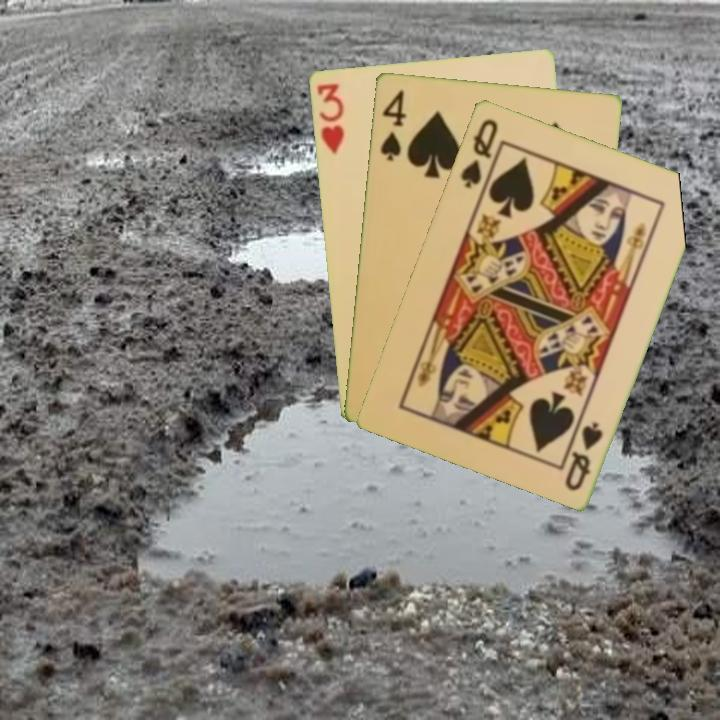3h: (312, 79, 347, 156)
4s: (376, 86, 409, 164)
Qs: (456, 114, 501, 191), (561, 418, 605, 493)
